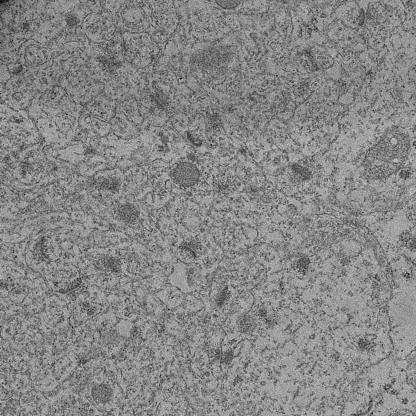mitochondria: (358, 125, 412, 183), (167, 158, 202, 189), (110, 200, 143, 226), (88, 381, 116, 404)
